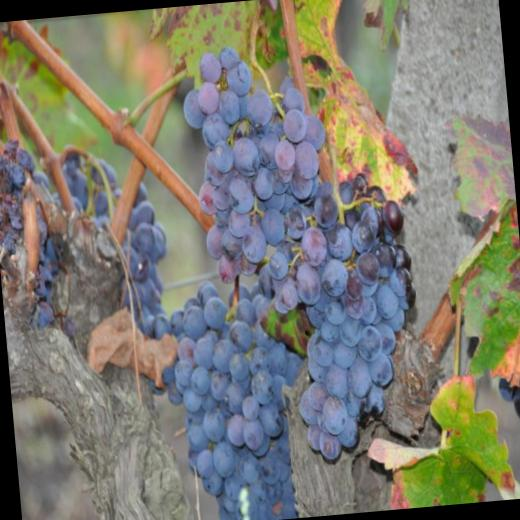Orange: (0, 34, 434, 520), (498, 376, 514, 402), (511, 380, 520, 419)
